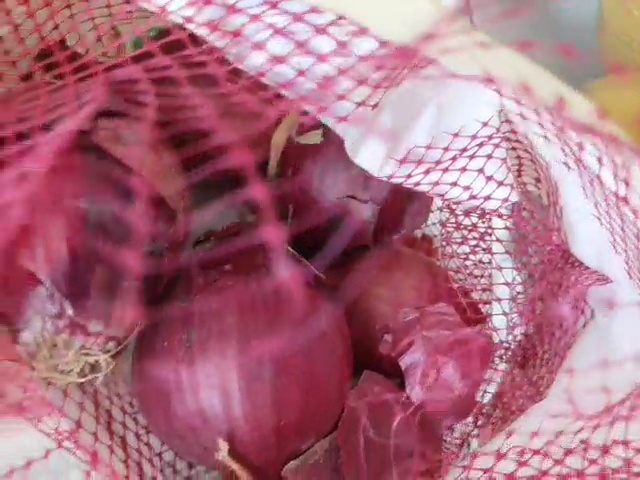red_onion: (8, 130, 489, 477)
